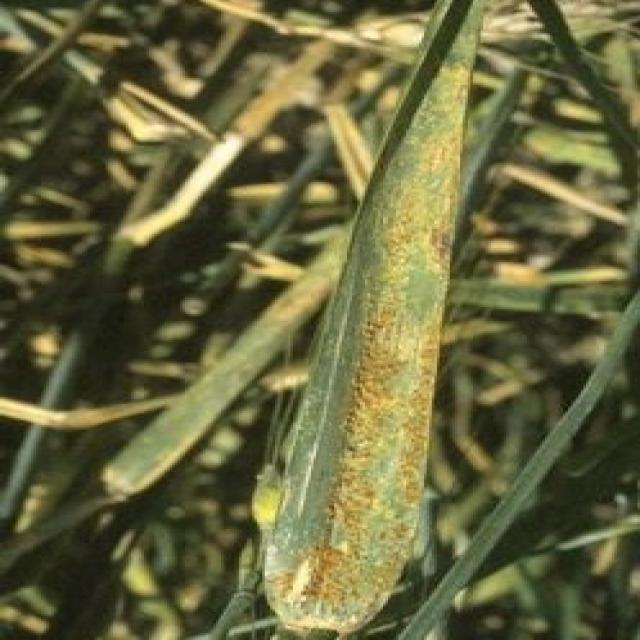Elderberry_rust: (244, 0, 490, 638)
